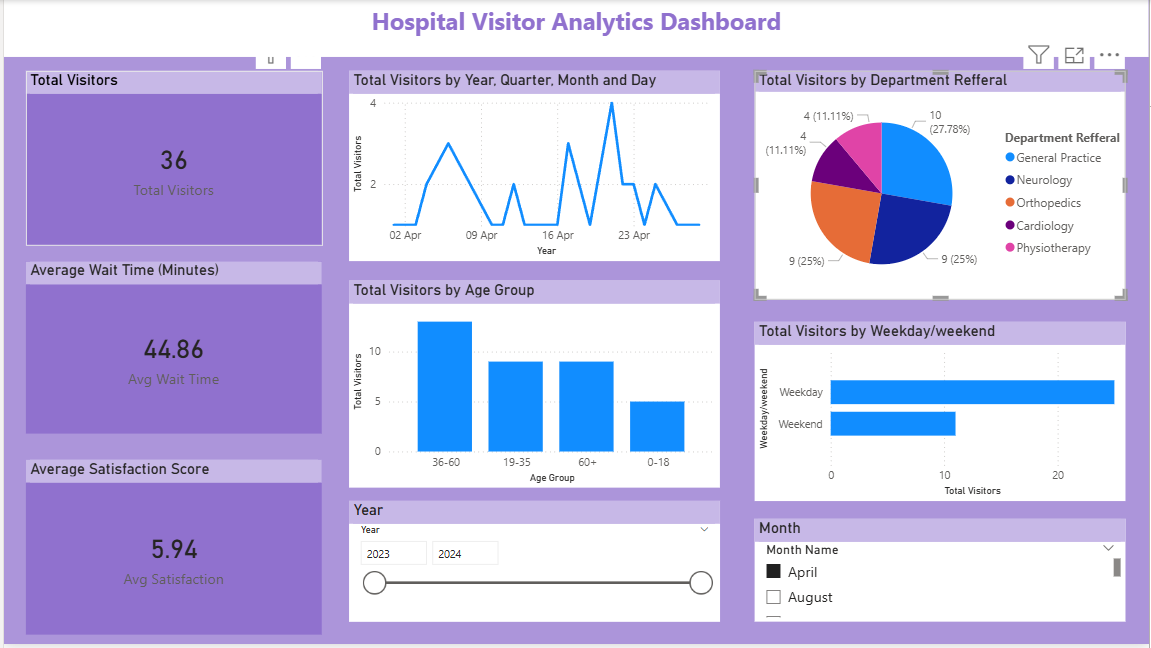

The page's visual inventory and layout, read from the dashboard file:
{"tool":"powerbi","page":{"name":"Page 1","canvas":[1280,720],"ordinal":0},"visuals":[{"type":"card","title":"Total Visitors","fields":{"Values":["Sheet1.Total Visitors"]},"box":[24.5,79.2,331.2,195.8],"z":0},{"type":"card","title":"Average Wait Time (Minutes)","fields":{"Values":["Sheet1.Avg Wait Time"]},"box":[24.5,292.3,331.2,192.9],"z":1000},{"type":"card","title":"Average Satisfaction Score","fields":{"Values":["Sheet1.Avg Satisfaction"]},"box":[24.5,514,331.2,195.8],"z":2000},{"type":"lineChart","fields":{"Y":["Sheet1.Total Visitors"],"Category":["Sheet1.Date.Variation.Date Hierarchy.Year","Sheet1.Date.Variation.Date Hierarchy.Quarter","Sheet1.Date.Variation.Date Hierarchy.Month","Sheet1.Date.Variation.Date Hierarchy.Day"]},"box":[385.9,79.2,414.7,213.1],"z":2001},{"type":"lineClusteredColumnComboChart","fields":{"Category":["Sheet1.Age Group"],"Y":["Sheet1.Total Visitors"]},"box":[385.9,313.9,414.7,231.8],"z":2002},{"type":"pieChart","fields":{"Category":["Sheet1.Department Refferal"],"Y":["Sheet1.Total Visitors"]},"box":[839.4,79.2,414.7,256.3],"z":2003},{"type":"clusteredBarChart","fields":{"Category":["Sheet1.Weekday/weekend"],"Y":["Sheet1.Total Visitors"]},"box":[839.4,360,414.7,200.1],"z":2004},{"type":"slicer","title":"Year","fields":{"Values":["Sheet1.Year"]},"box":[385.9,560.1,414.7,135.3],"z":2005},{"type":"slicer","title":"Month","fields":{"Values":["Sheet1.Month Name"]},"box":[839.4,580.3,414.7,115.2],"z":2006},{"type":"textbox","box":[0,0,1280,63.4],"z":2007}]}

Visuals, with their boxes in screenshot pixels (x1, y1, x2, y2), scaled from the page's 1280x720 canvas onto the 1151x648 screenshot:
"Total Visitors" card: [left=22, top=71, right=320, bottom=248]
"Average Wait Time (Minutes)" card: [left=22, top=263, right=320, bottom=437]
"Average Satisfaction Score" card: [left=22, top=463, right=320, bottom=639]
lineChart - Sheet1.Total Visitors x Sheet1.Date.Variation.Date Hierarchy.Year: [left=347, top=71, right=720, bottom=263]
lineClusteredColumnComboChart - Sheet1.Age Group x Sheet1.Total Visitors: [left=347, top=283, right=720, bottom=491]
pieChart - Sheet1.Department Refferal x Sheet1.Total Visitors: [left=755, top=71, right=1128, bottom=302]
clusteredBarChart - Sheet1.Weekday/weekend x Sheet1.Total Visitors: [left=755, top=324, right=1128, bottom=504]
"Year" slicer: [left=347, top=504, right=720, bottom=626]
"Month" slicer: [left=755, top=522, right=1128, bottom=626]
textbox: [left=0, top=0, right=1150, bottom=57]
